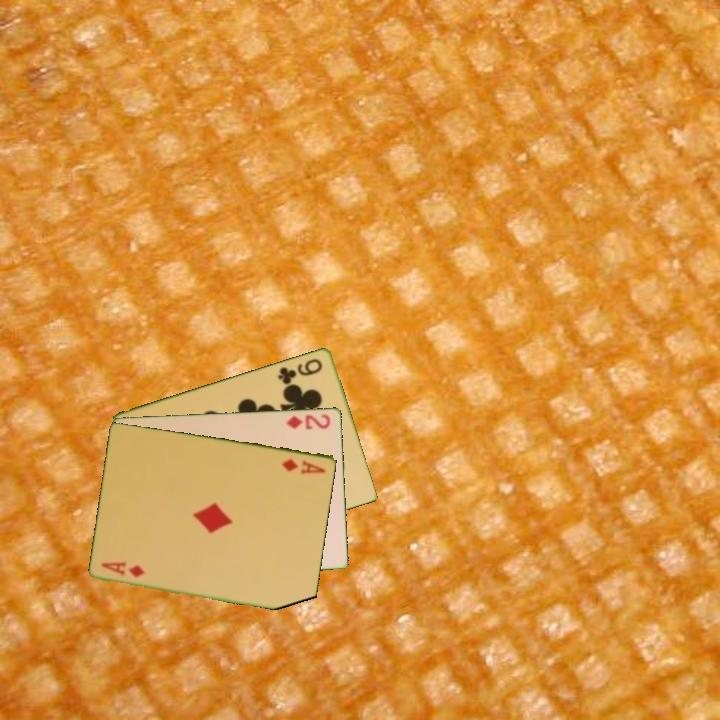2d: (283, 411, 334, 432)
9c: (274, 355, 325, 387)
Ad: (278, 455, 329, 477), (98, 558, 148, 580)
